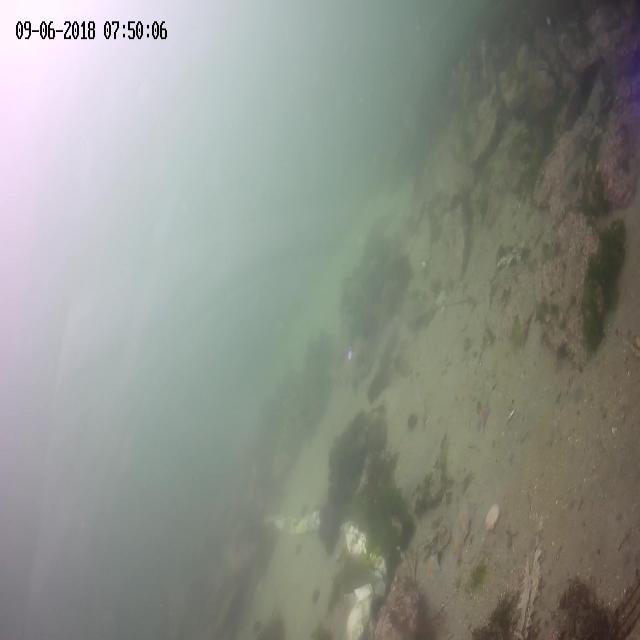echinus: (406, 410, 416, 430)
scallop: (483, 501, 498, 528)
starfish: (450, 505, 478, 546), (425, 557, 440, 578)
